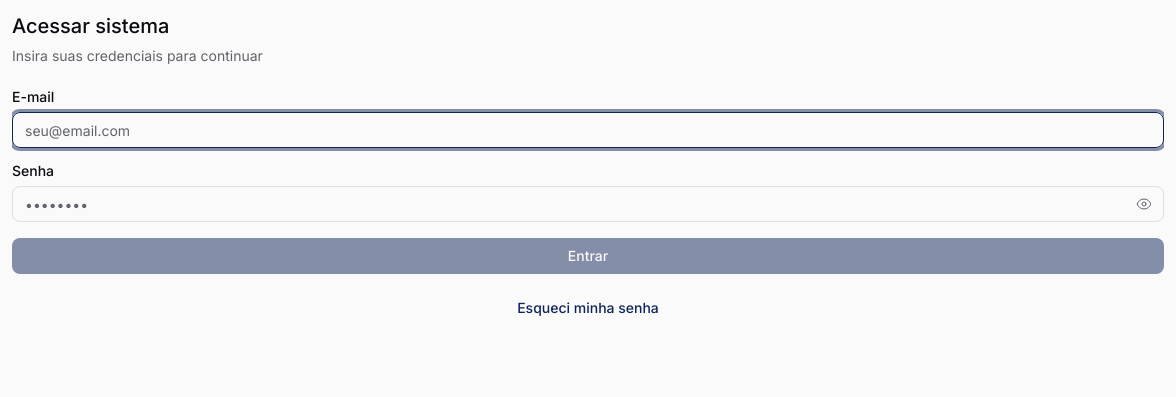
Test case: LoginForm › shows validation error when password is too short on blur
Type "123" into the password field labelled "Senha" at (588, 204), box [12, 186, 1164, 222]
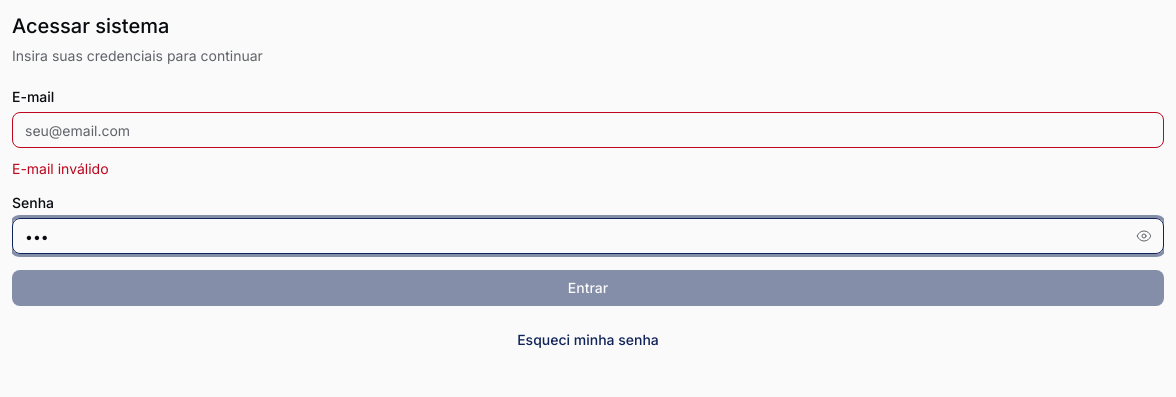
Press Tab
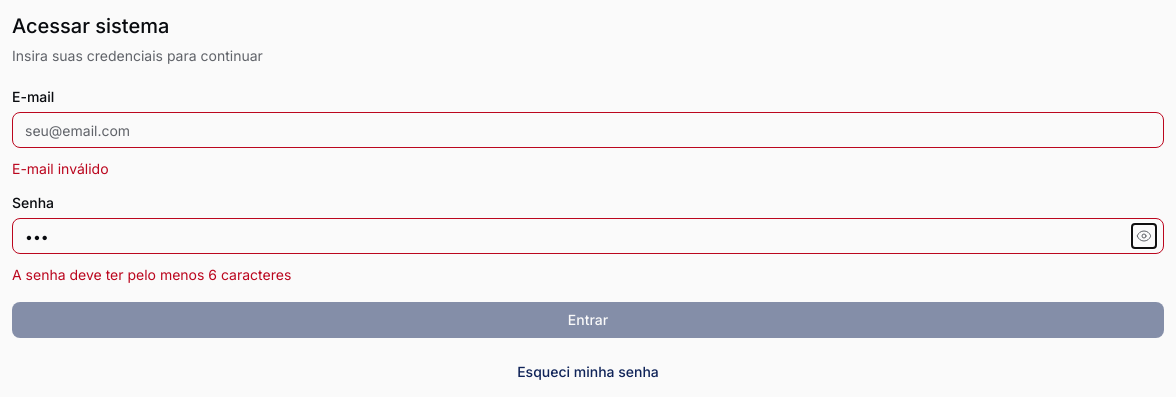
Result: the text "A senha deve ter pelo menos 6 caracteres" is shown at [12, 266, 291, 283]
